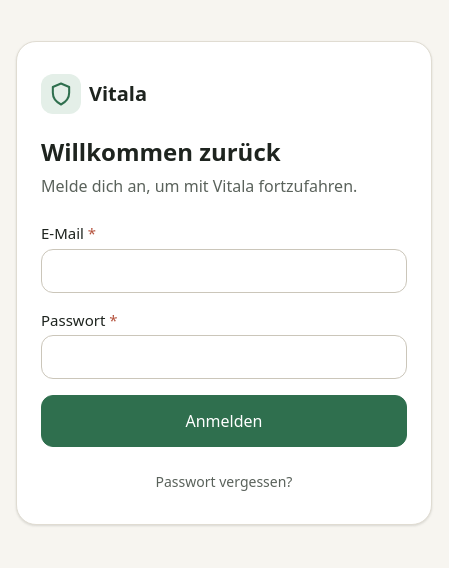
LoginPage › shows validation errors on empty submit
Step 1. Click the button "Anmelden" → (224, 421), box [41,395,407,447]
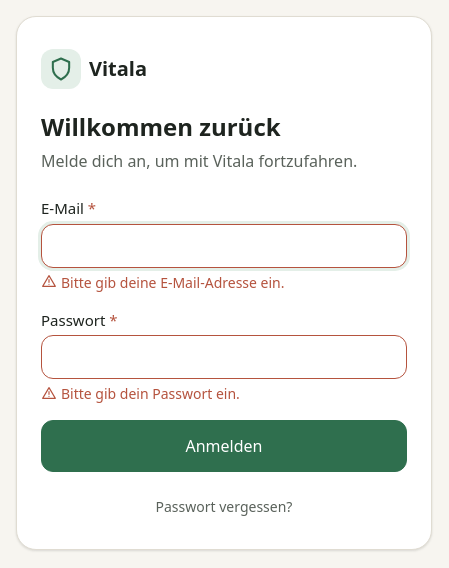
Check: the text "Bitte gib deine E-Mail-Adresse ein." is shown, box [61,272,284,293]
